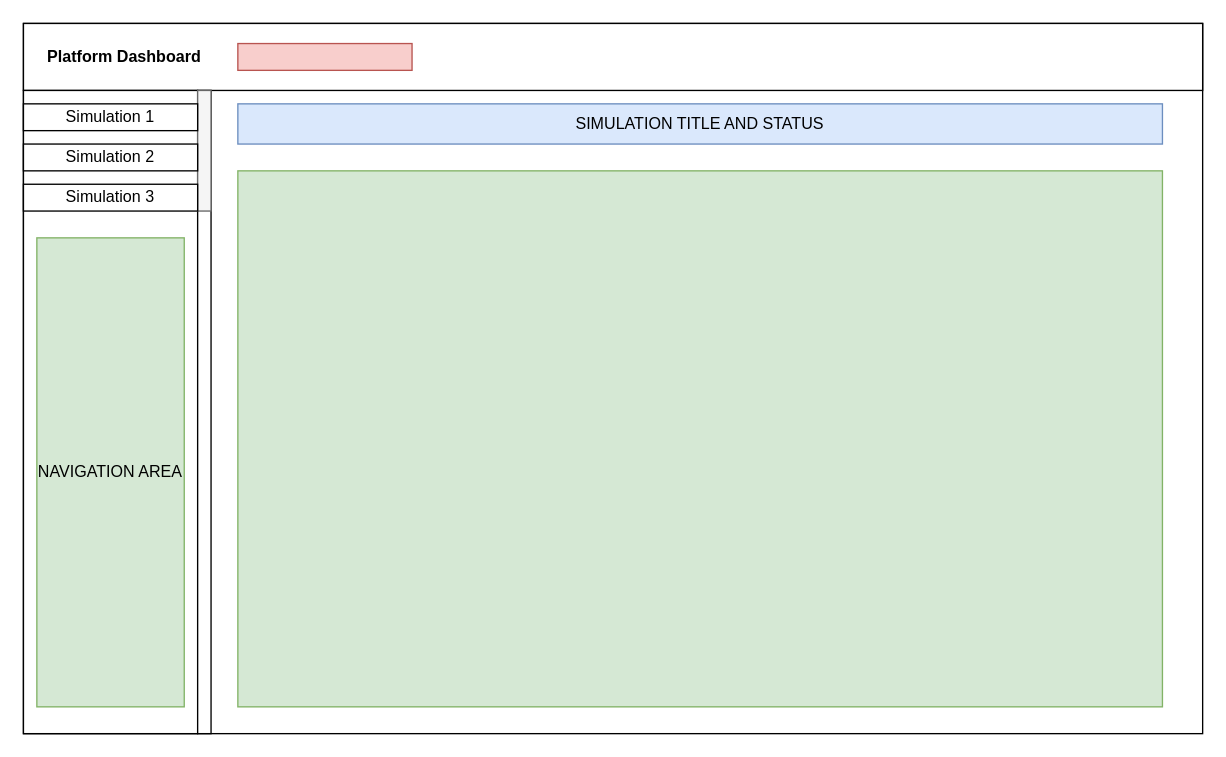
Image size: 1226x757. Some labels were removed from this diagram. The shapes that lost their labels are listed below. From the top down, each one's centre as x and y in pixels, then its label:
point (324, 56): NEW RUN BUTTON
point (699, 438): GRAPHS AND RESULTS
